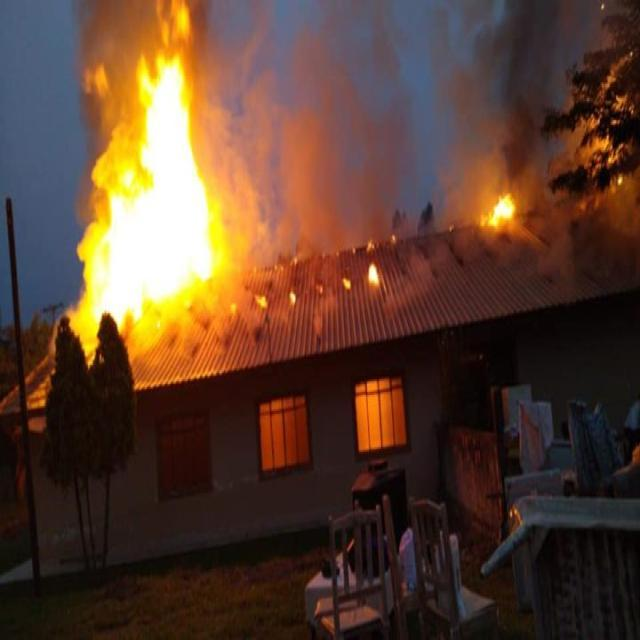Fire: (80, 8, 224, 343), (479, 192, 517, 228), (365, 256, 383, 289)
Smoke: (255, 8, 556, 184), (278, 19, 432, 267), (276, 46, 361, 260)
